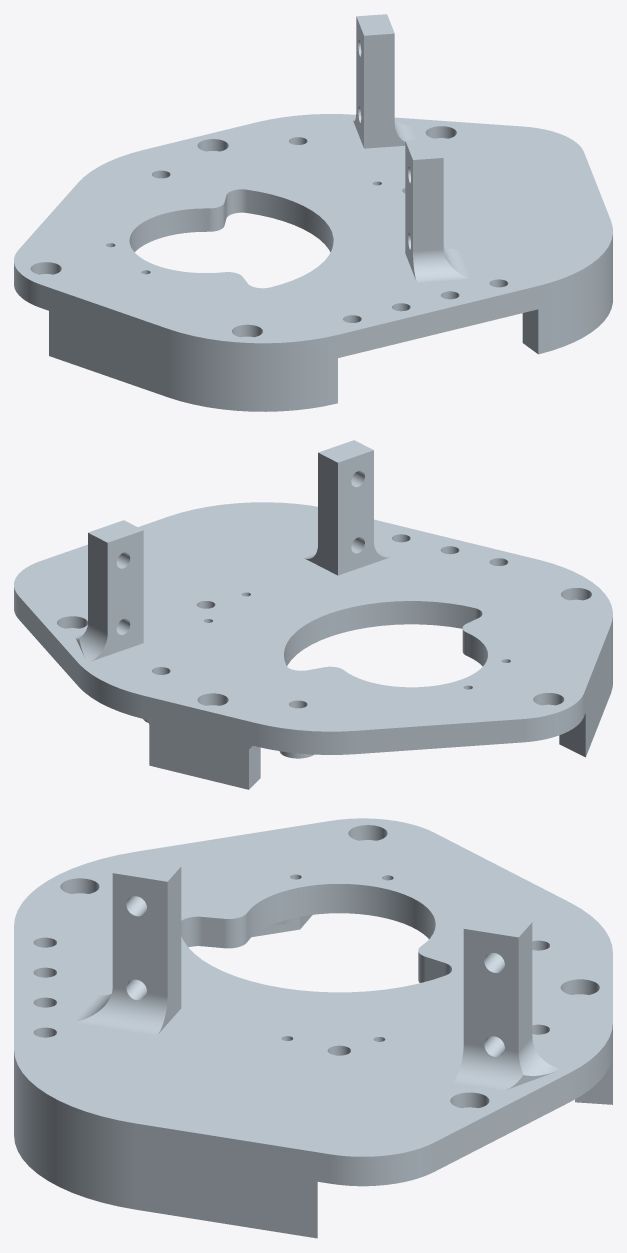
The picture shows the model from 3 angles, top to bottom: view 1: azimuth 30°, elevation 25°; view 2: azimuth 150°, elevation 25°; view 3: azimuth 270°, elevation 25°; orthographic projection. The views are drawn at different scales.
Visible parts, largest first — view 1: mesh2515, mesh2464, mesh2458, mesh2467, mesh2465, mesh2538, mesh2531, mesh2475, mesh2474, mesh2518, mesh2533, mesh2541 (+4 smaller); view 2: mesh2515, mesh2451, mesh2475, mesh2453, mesh2541, mesh2533, mesh2452, mesh2530, mesh2458, mesh2539, mesh2455, mesh2456 (+5 smaller); view 3: mesh2515, mesh2466, mesh2467, mesh2534, mesh2542, mesh2474, mesh2456, mesh2457, mesh2528, mesh2536, mesh2530, mesh2539 (+8 smaller).
Boxes of the visible parts, x1,y1,x2,y2 form: mesh2515: [14, 114, 612, 343]; mesh2464: [168, 329, 337, 411]; mesh2458: [40, 285, 168, 397]; mesh2467: [538, 234, 612, 354]; mesh2465: [338, 286, 538, 357]; mesh2538: [364, 33, 405, 148]; mesh2531: [413, 158, 443, 250]; mesh2475: [247, 189, 333, 251]; mesh2474: [129, 208, 208, 252]; mesh2518: [413, 249, 468, 282]; mesh2533: [405, 141, 415, 279]; mesh2541: [353, 16, 363, 147]; mesh2515: [14, 502, 612, 731]; mesh2451: [143, 696, 256, 789]; mesh2475: [284, 601, 474, 665]; mesh2453: [355, 719, 523, 753]; mesh2541: [91, 530, 143, 661]; mesh2533: [338, 450, 389, 575]; mesh2452: [256, 723, 355, 754]; mesh2530: [305, 452, 337, 575]; mesh2458: [584, 625, 610, 756]; mesh2539: [88, 533, 107, 633]; mesh2455: [78, 663, 143, 718]; mesh2456: [18, 596, 78, 685]; mesh2515: [14, 818, 612, 1156]; mesh2466: [136, 1123, 330, 1238]; mesh2467: [14, 1051, 135, 1209]; mesh2534: [112, 873, 167, 996]; mesh2542: [463, 929, 518, 1051]; mesh2474: [247, 884, 435, 941]; mesh2456: [434, 1073, 570, 1171]; mesh2457: [330, 1143, 433, 1186]; mesh2528: [76, 988, 167, 1035]; mesh2536: [453, 1043, 523, 1090]; mesh2530: [158, 867, 181, 1033]; mesh2539: [518, 922, 532, 1051].
Bounding box in the file's own units: 0.1022 × 0.0321 × 0.0765.
